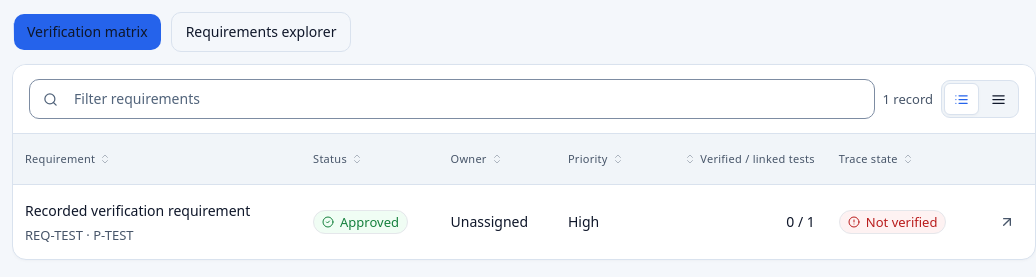
Scenario: Requirement register › offers a hierarchy made from actual project and test links
Step 1. Click the 2nd button named "Requirements explorer" → (261, 32), box [171,12,351,52]
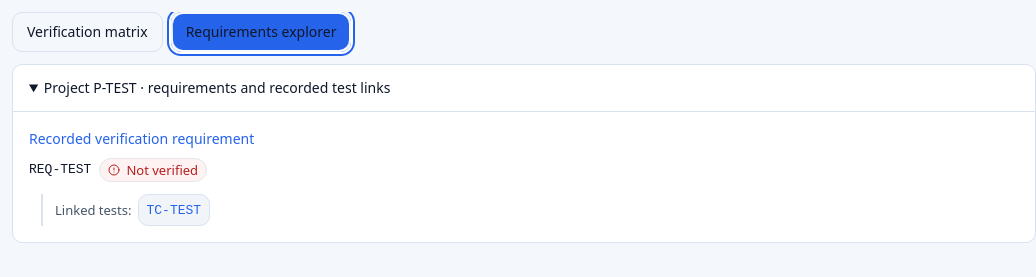
Result: the heading "Project P-TEST · requirements and recorded test links" is shown at [13,65,1035,112]
Result: the text "TC-TEST" is shown at [146,203,201,218]
